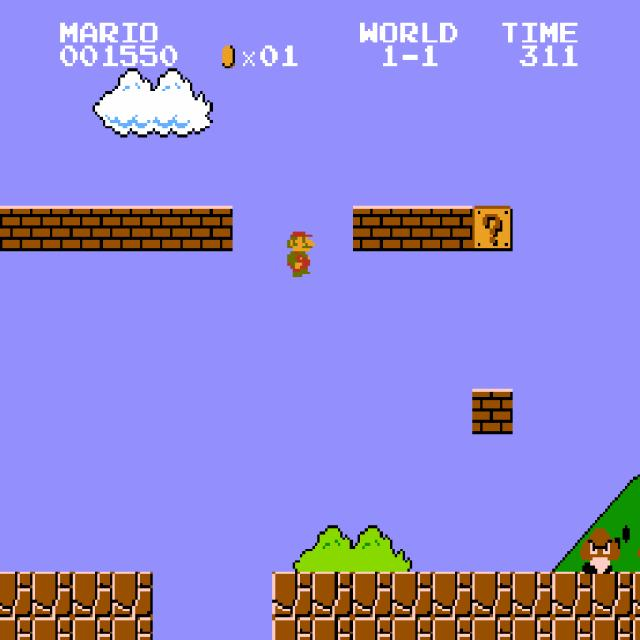brick_block: (32, 206, 73, 251), (72, 206, 113, 251), (112, 206, 153, 251), (152, 206, 193, 251), (192, 206, 233, 251), (352, 206, 393, 251), (392, 206, 433, 251), (432, 206, 473, 251), (472, 389, 513, 434), (0, 205, 32, 251)
goomba: (578, 526, 620, 574), (627, 526, 640, 574)
little_mario: (277, 229, 320, 277)
mystery_block: (472, 206, 513, 251)
undestructible_block: (32, 572, 73, 617), (72, 572, 113, 617), (112, 572, 153, 617), (272, 572, 313, 617), (312, 572, 353, 617), (352, 572, 393, 617), (392, 572, 433, 617), (432, 572, 473, 617), (472, 572, 513, 617), (512, 572, 553, 617), (552, 572, 593, 617), (592, 572, 633, 617), (0, 571, 32, 617), (32, 617, 73, 640), (72, 617, 113, 640), (112, 617, 153, 640), (272, 617, 313, 640), (312, 617, 353, 640), (352, 617, 393, 640), (392, 617, 433, 640), (432, 617, 473, 640), (472, 617, 513, 640), (512, 617, 553, 640), (552, 617, 593, 640), (592, 617, 633, 640), (0, 617, 32, 639), (633, 572, 640, 617), (633, 617, 640, 640)
